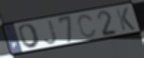2: (96, 9, 119, 37)
7: (56, 14, 74, 45)
C: (77, 13, 98, 39)
J: (43, 18, 60, 46)
K: (115, 6, 137, 33)
O: (17, 23, 42, 50)
